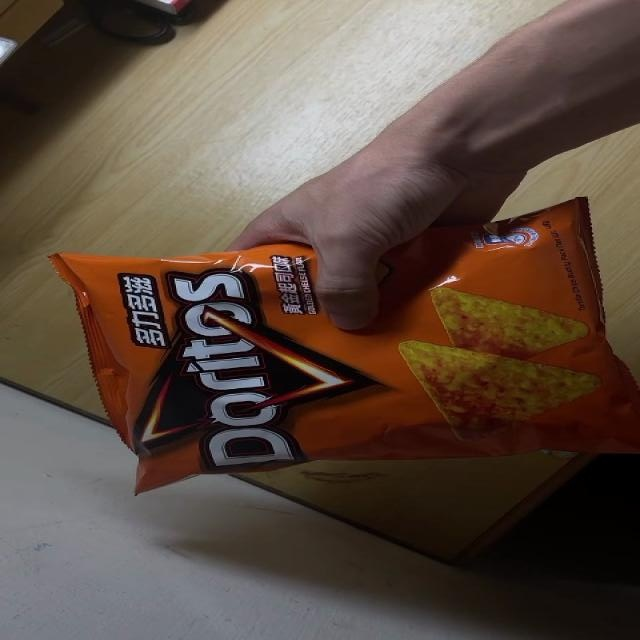Doritos: (47, 197, 640, 495)
